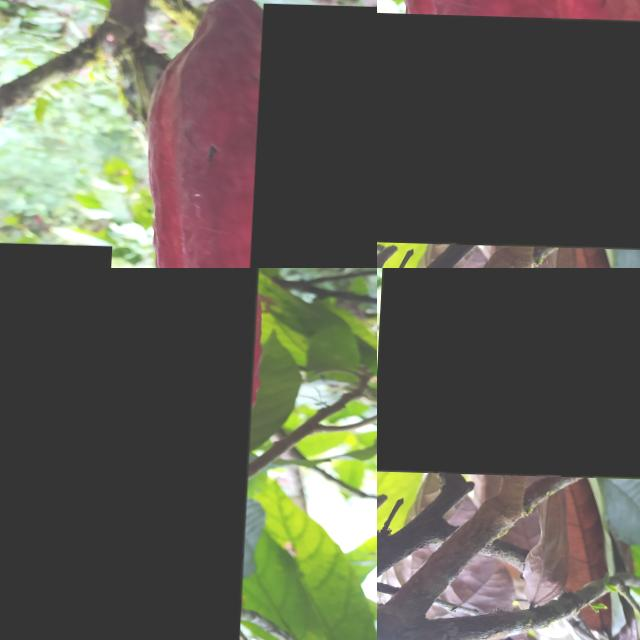Fitoftora: (377, 9, 640, 247), (377, 268, 640, 476)
Monilia: (0, 268, 266, 640)
Sana: (250, 1, 377, 268)
